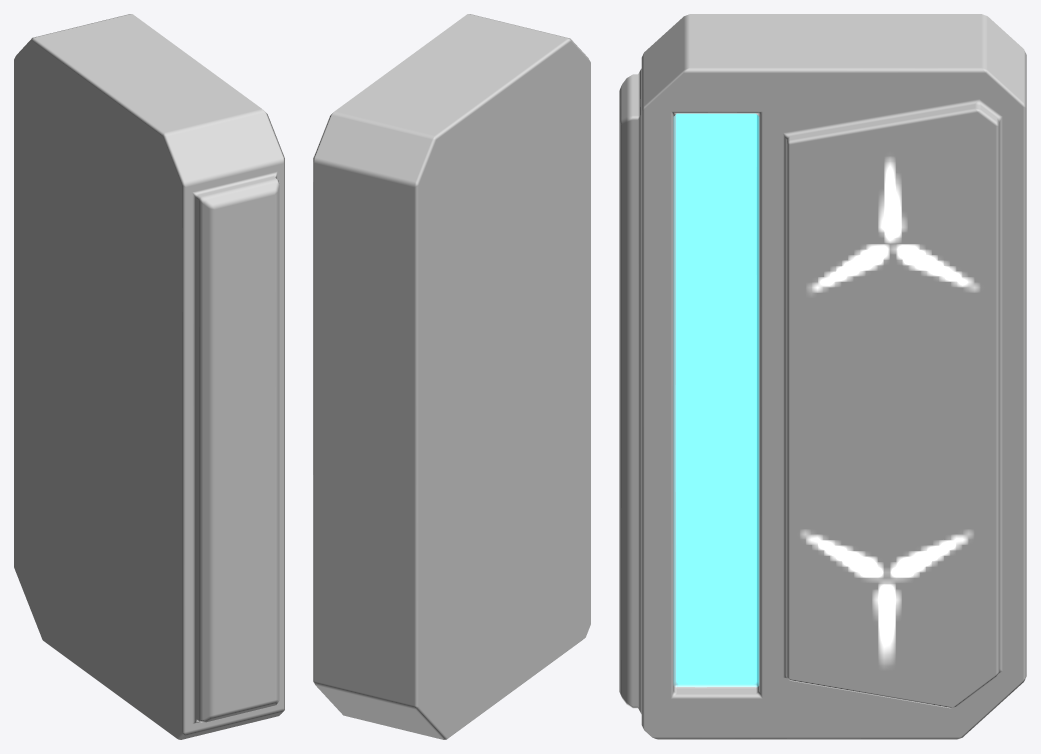
Rendered from SM_3DT_Wall_Prop_08.fbx.
3 renders of one model, left to right at view 1: azimuth 30°, elevation 25°; view 2: azimuth 150°, elevation 25°; view 3: azimuth 270°, elevation 25°, orthographic. The views are drawn at different scales.
Visible parts, largest first — view 1: SM_3DT_Wall_Prop_08; view 2: SM_3DT_Wall_Prop_08; view 3: SM_3DT_Wall_Prop_08.
Part boxes in pixels (x1,y1,x2,y2): SM_3DT_Wall_Prop_08: [14, 14, 284, 739]; SM_3DT_Wall_Prop_08: [313, 14, 590, 739]; SM_3DT_Wall_Prop_08: [619, 14, 1026, 739].
Bounding box in the file's own units: 18.52 × 91.9 × 50.42.
